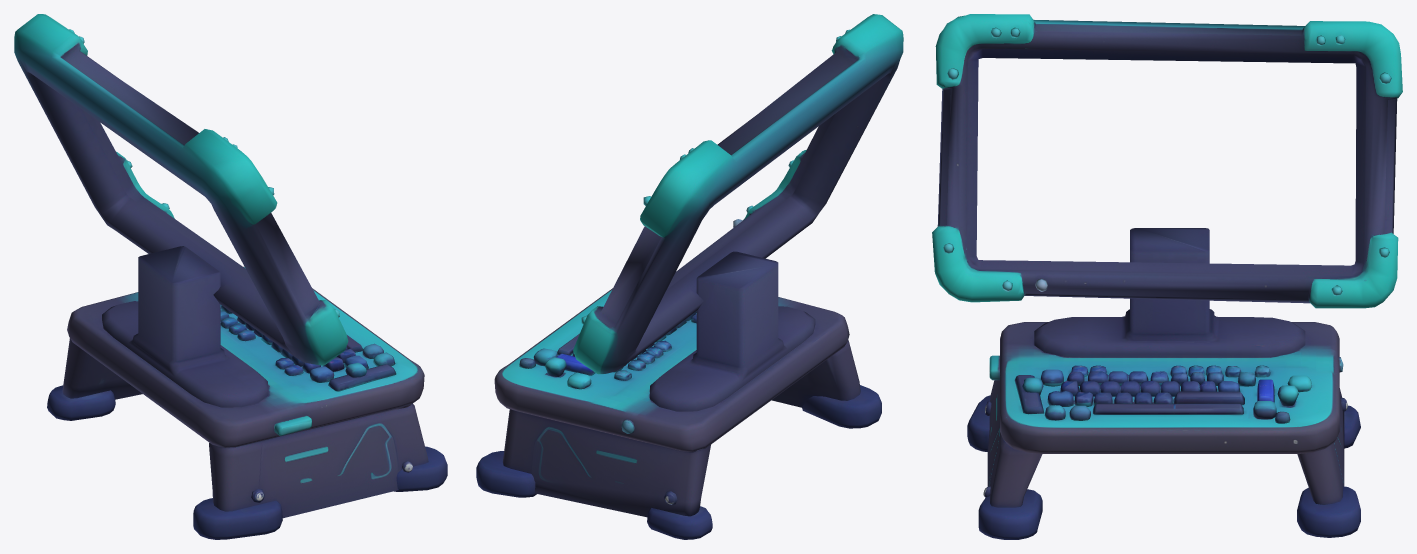
The model's file is data_terminal.glb.
3 renders of one model, left to right at view 1: azimuth 30°, elevation 25°; view 2: azimuth 150°, elevation 25°; view 3: azimuth 270°, elevation 25°, orthographic. The views are drawn at different scales.
Visible parts, largest first — view 1: tripo_node_f57ea4e5-bcae-42d2-bca1-f6795a8f5c11; view 2: tripo_node_f57ea4e5-bcae-42d2-bca1-f6795a8f5c11; view 3: tripo_node_f57ea4e5-bcae-42d2-bca1-f6795a8f5c11.
Boxes of the visible parts, <box> form: tripo_node_f57ea4e5-bcae-42d2-bca1-f6795a8f5c11: <box>14,14,447,539</box>; tripo_node_f57ea4e5-bcae-42d2-bca1-f6795a8f5c11: <box>476,14,903,539</box>; tripo_node_f57ea4e5-bcae-42d2-bca1-f6795a8f5c11: <box>932,14,1402,539</box>.
Bounding box in the file's own units: 0.6465 × 0.9512 × 0.9902.
Materials: 1 (1 with a texture image).
